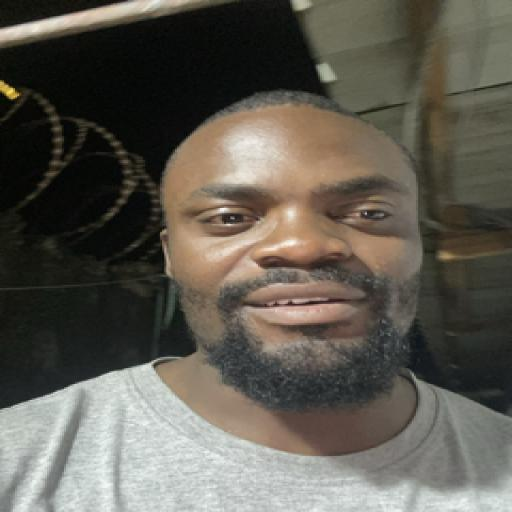JEANLUC: (150, 90, 426, 420)
